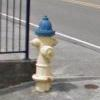Hydrant: (23, 10, 69, 95)
